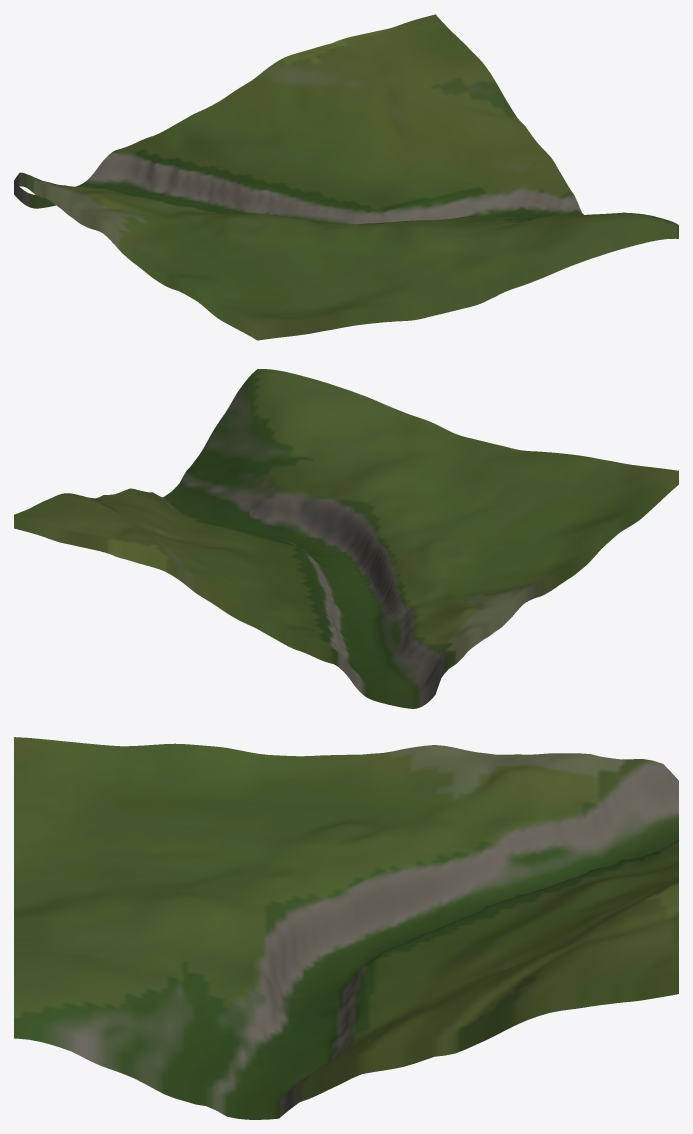
Rendered from terrain_10_-23.glb.
The picture shows the model from 3 angles, top to bottom: view 1: azimuth 30°, elevation 25°; view 2: azimuth 150°, elevation 25°; view 3: azimuth 270°, elevation 25°; orthographic projection. The views are drawn at different scales.
Parts seen in each view (by area): view 1: terrain_10_-23; view 2: terrain_10_-23; view 3: terrain_10_-23.
Part boxes in pixels (<box>): terrain_10_-23: <box>14,14,678,340</box>; terrain_10_-23: <box>14,369,678,708</box>; terrain_10_-23: <box>14,737,678,1119</box>.
Size of the model in its own units: 256 by 61.49 by 256.
